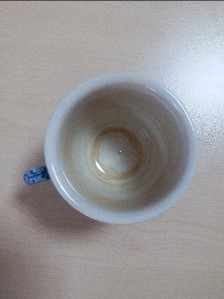cup: (40, 72, 198, 223)
